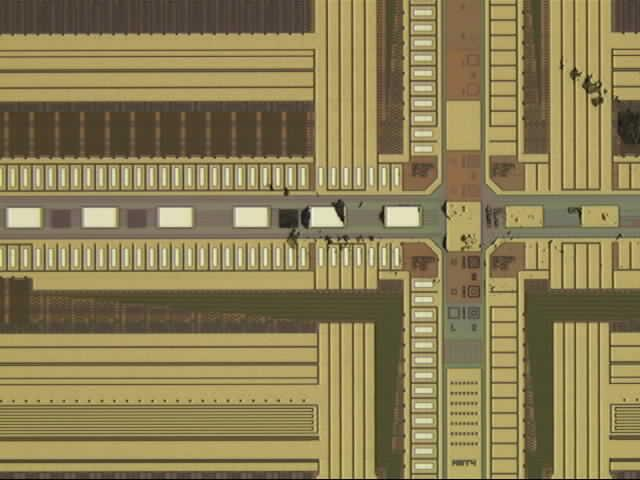PO CONTAMINATION: (253, 55, 640, 265)
